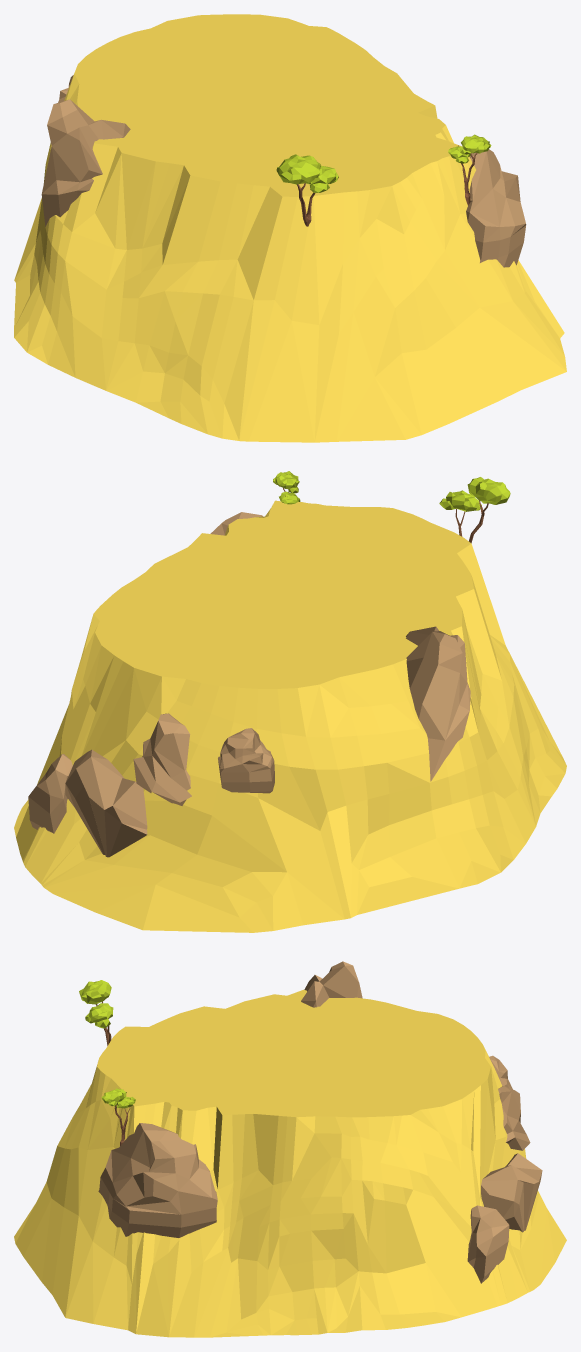
Rendered from Islands_04.FBX.
The picture shows the model from 3 angles, top to bottom: view 1: azimuth 30°, elevation 25°; view 2: azimuth 150°, elevation 25°; view 3: azimuth 270°, elevation 25°; orthographic projection. The views are drawn at different scales.
Parts seen in each view (by area): view 1: Islands_04; view 2: Islands_04; view 3: Islands_04.
Part boxes in pixels (bbox=[...]): Islands_04: bbox=[14, 14, 566, 442]; Islands_04: bbox=[14, 471, 566, 932]; Islands_04: bbox=[14, 961, 566, 1337].
Bounding box in the file's own units: 3261 × 1872 × 4072.
